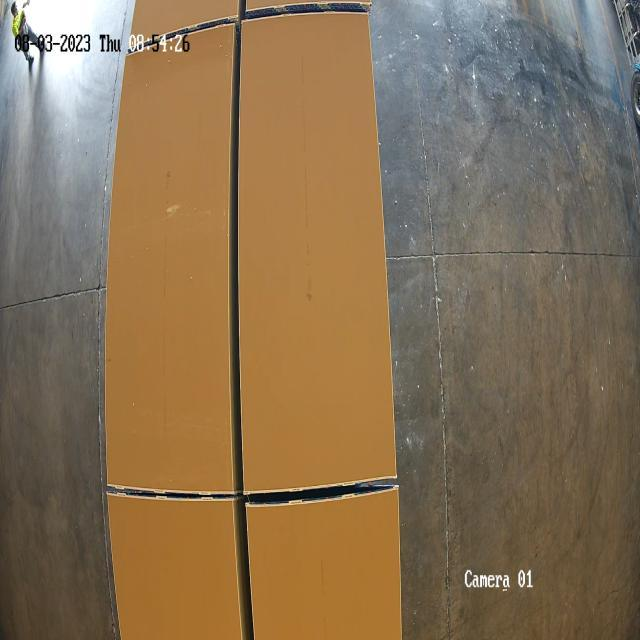person: (8, 0, 42, 68)
